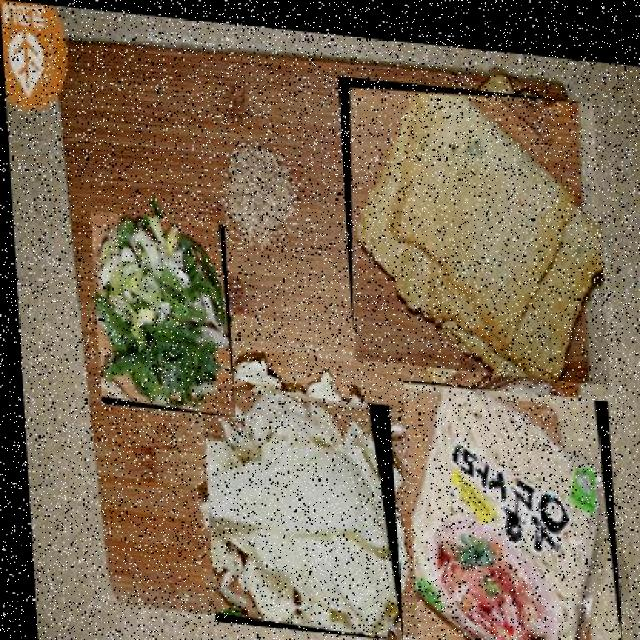Cabbage: (196, 381, 396, 633)
Noodles: (397, 370, 617, 638)
Onion Leaves: (86, 208, 231, 412)
